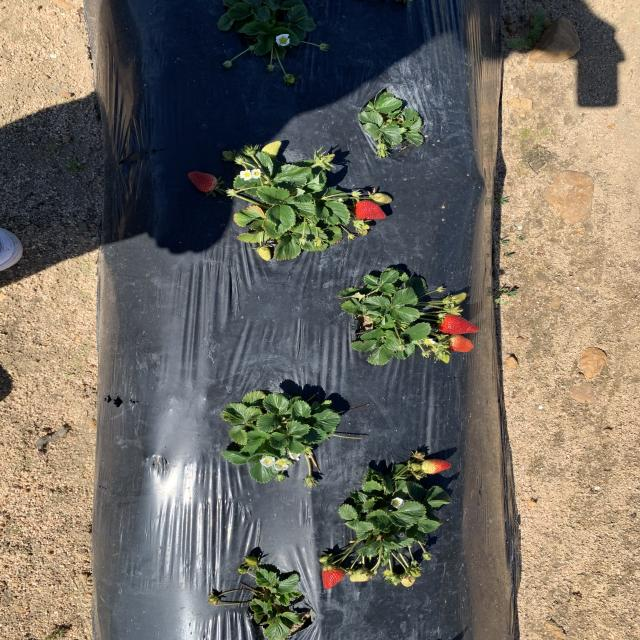unripe: (438, 313, 479, 335), (186, 169, 221, 192), (319, 564, 347, 590), (353, 200, 388, 220), (440, 335, 474, 353), (420, 459, 453, 475)
